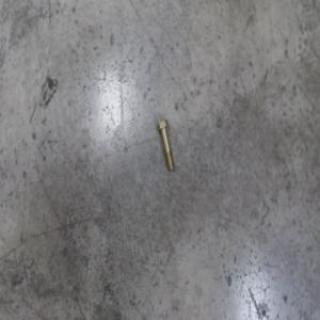Bolttrack_idkeyframe: (151, 120, 170, 173)
